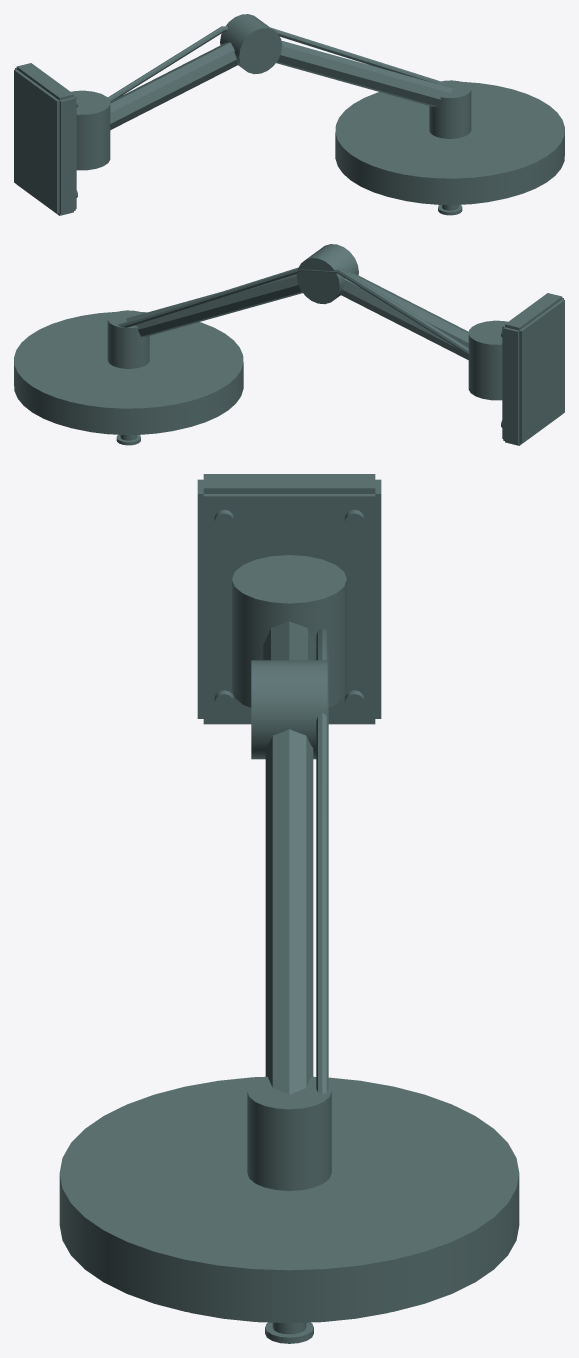
The model's file is OBJ-048_LamparaClinica.fbx.
3 renders of one model, top to bottom at view 1: azimuth 30°, elevation 25°; view 2: azimuth 150°, elevation 25°; view 3: azimuth 270°, elevation 25°, orthographic. The views are drawn at different scales.
Visible parts, largest first — view 1: GEO-OBJ-048_LamparaClinica.002; view 2: GEO-OBJ-048_LamparaClinica.002; view 3: GEO-OBJ-048_LamparaClinica.002.
Boxes of the visible parts, left/top/right/bottom form: GEO-OBJ-048_LamparaClinica.002: left=14, top=14, right=564, bottom=215; GEO-OBJ-048_LamparaClinica.002: left=14, top=244, right=564, bottom=445; GEO-OBJ-048_LamparaClinica.002: left=59, top=474, right=519, bottom=1343.
Size of the model in its own units: 1.55 by 0.6835 by 0.6.
